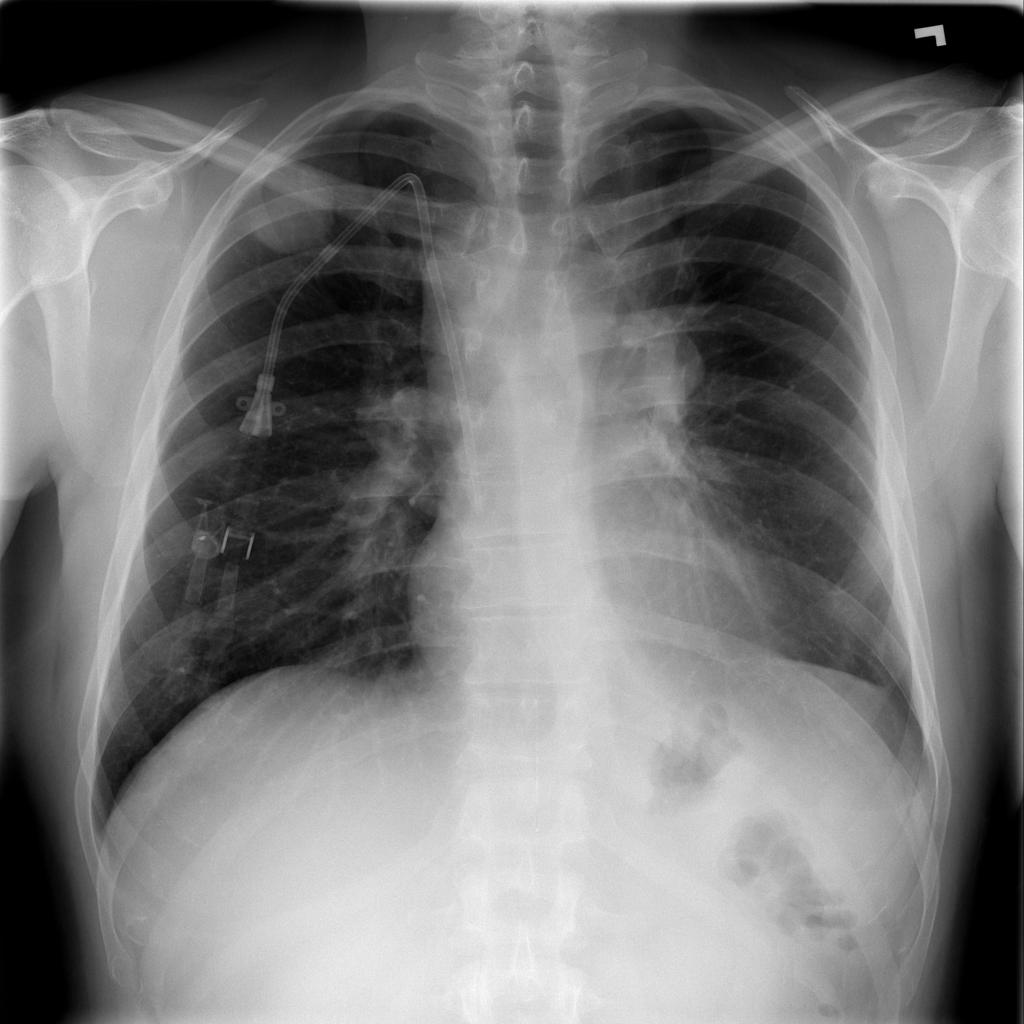nodule: (233, 157, 353, 273)
